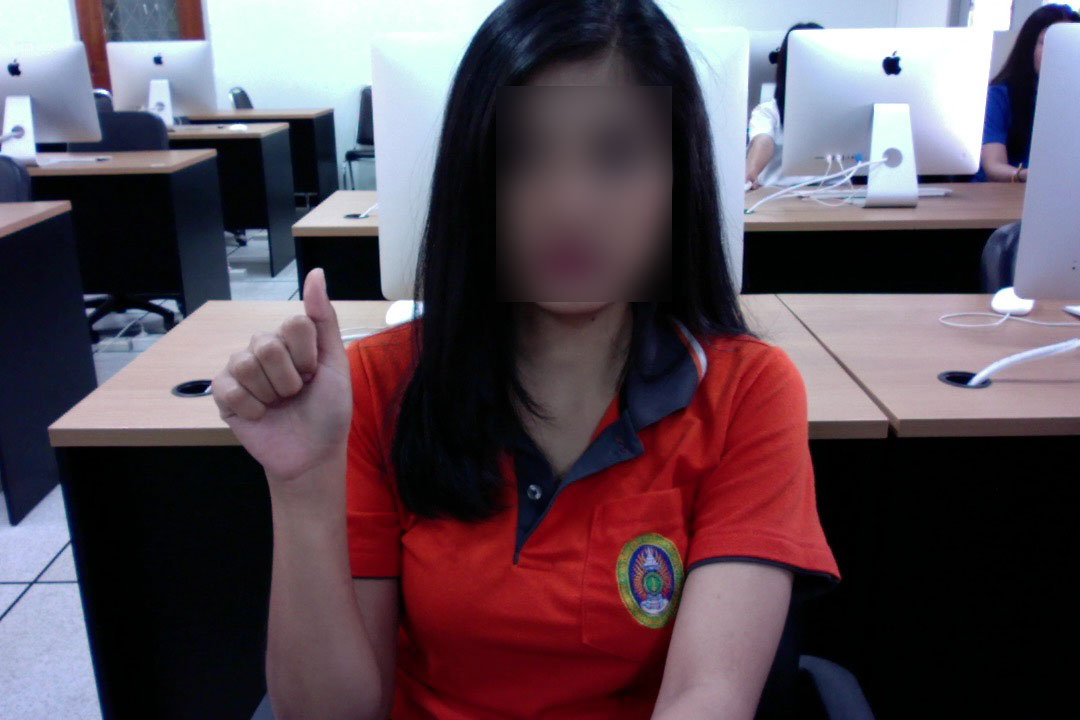or: (203, 257, 358, 502)
